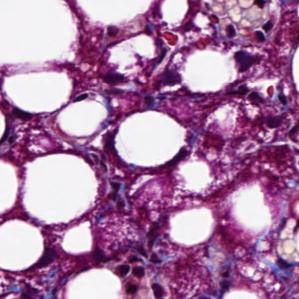inflammation: (114, 253, 149, 297), (233, 43, 268, 78)
